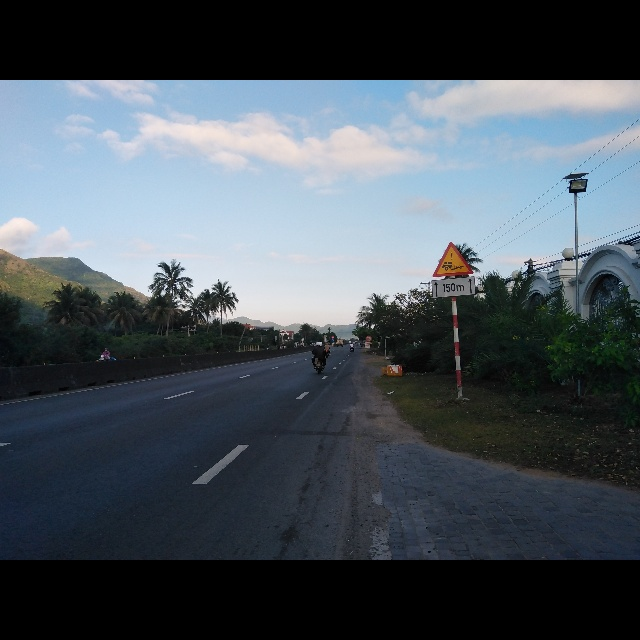Đoạn đường hay xảy ra tai nạn: (430, 239, 473, 278)
